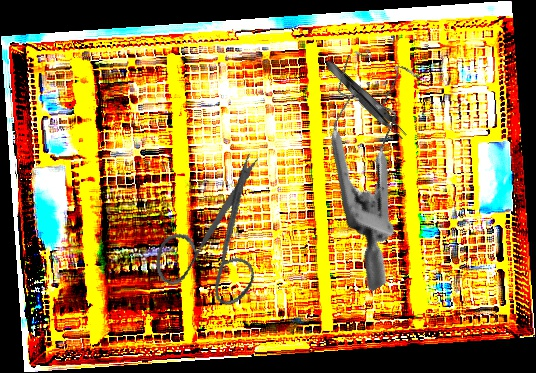Iris Scissors: (132, 148, 296, 321)
Speculum: (257, 29, 504, 293)
Tissue Forceps: (321, 56, 411, 143)
